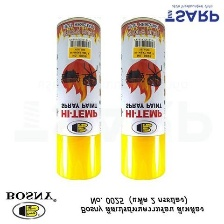aerosol_cans: (49, 13, 105, 184), (116, 13, 170, 183)
